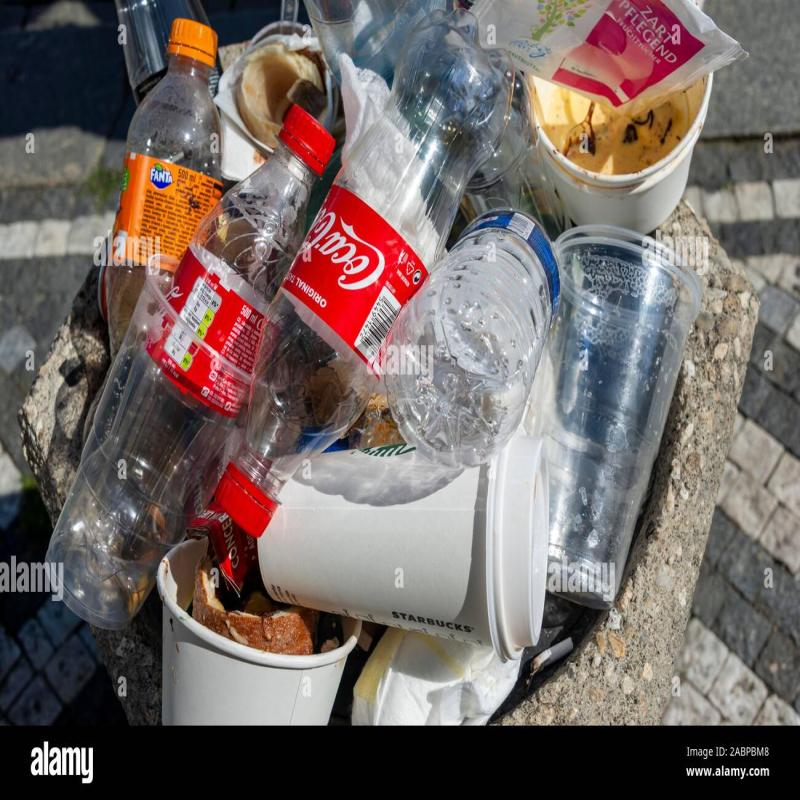botella: (47, 105, 338, 635), (210, 86, 482, 547), (384, 195, 565, 465), (111, 11, 222, 343)
